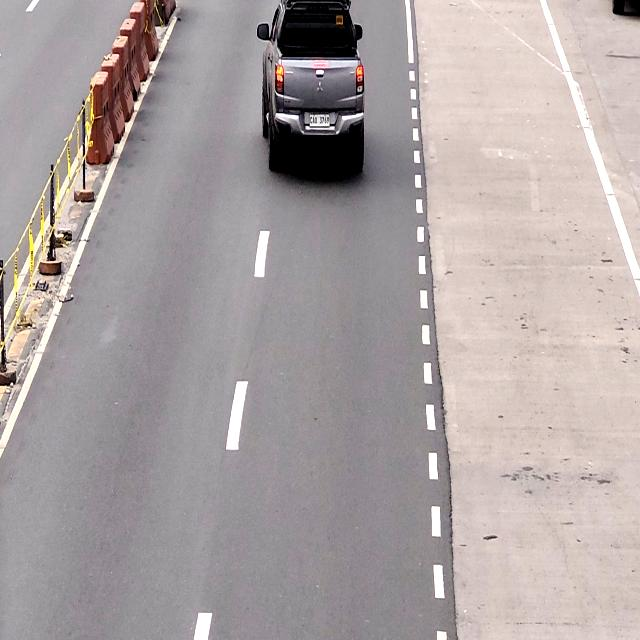Car: (260, 0, 363, 174)
License-Plate: (308, 112, 329, 128)
